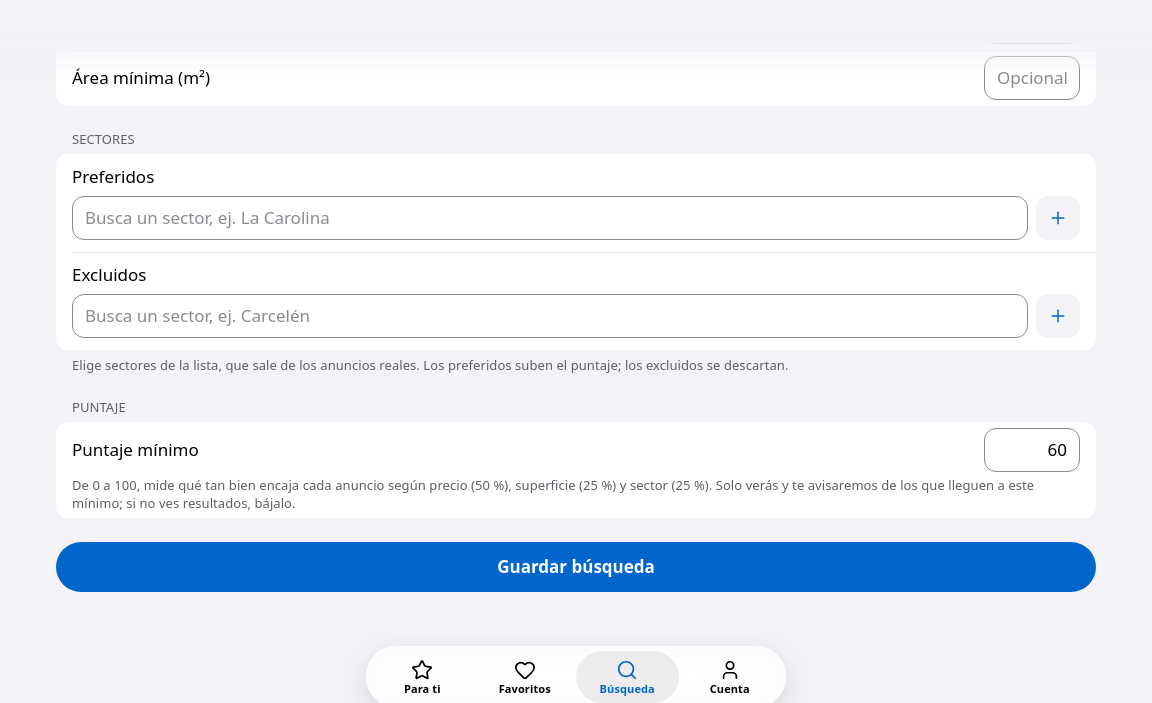
it: SearchProfilePage › starts an empty form for a new user and flags a missing budget
The width and height of the screenshot is (1152, 703).
(page scrolled)
Click the button "Guardar búsqueda". click: click(576, 567)
box: [56,542,1096,592]
(page scrolled)
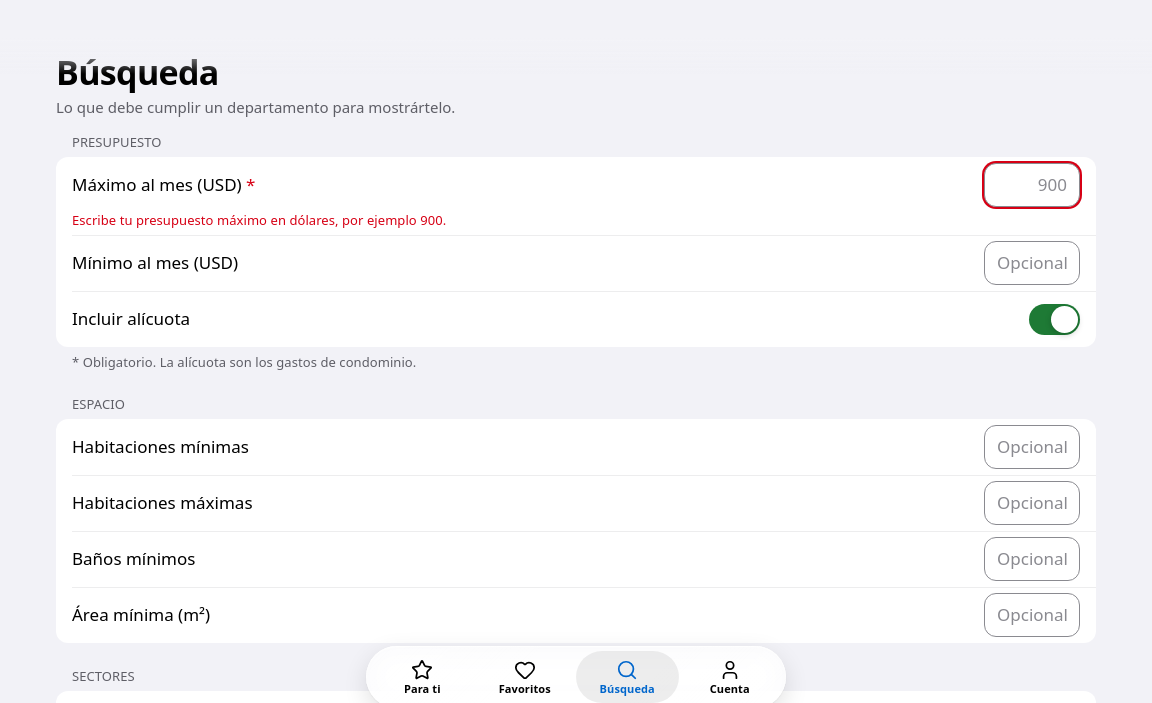
expect the text "Escribe tu presupuesto máximo en dólares, por ejemplo 900." is shown: met, box [72,211,446,229]
